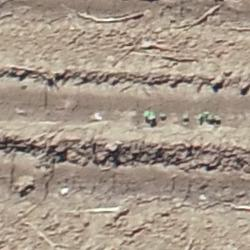cotton: (142, 110, 154, 119), (215, 115, 220, 121), (207, 114, 213, 118), (160, 113, 165, 116), (183, 115, 188, 118)
